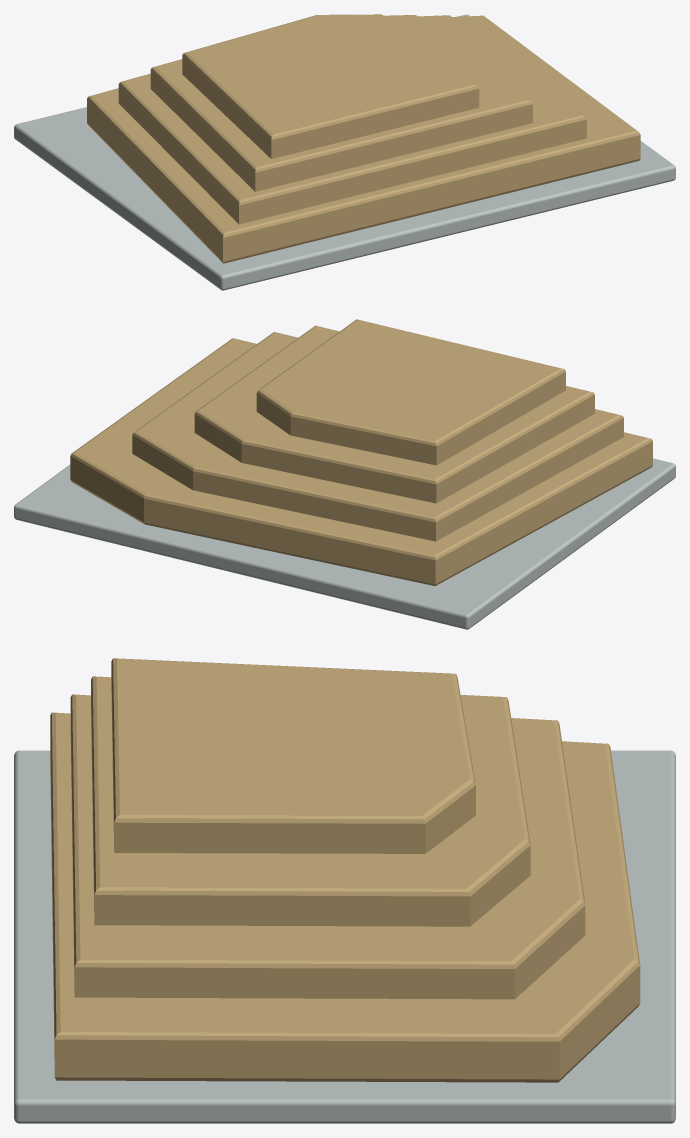
Rendered from abandoned-tidal-model-testing-hall-modular-contour-bed-f6909ff1__32332.glb.
3 renders of one model, top to bottom at view 1: azimuth 30°, elevation 25°; view 2: azimuth 150°, elevation 25°; view 3: azimuth 270°, elevation 25°, orthographic. The views are drawn at different scales.
Visible parts, largest first — view 1: modular-contour-bed; view 2: modular-contour-bed; view 3: modular-contour-bed.
Boxes of the visible parts, box(x1,y1,x2,y2) form: modular-contour-bed: box(14, 14, 675, 290); modular-contour-bed: box(14, 319, 675, 629); modular-contour-bed: box(14, 658, 675, 1123).
Size of the model in its own units: 1.7 by 0.404 by 1.35.
